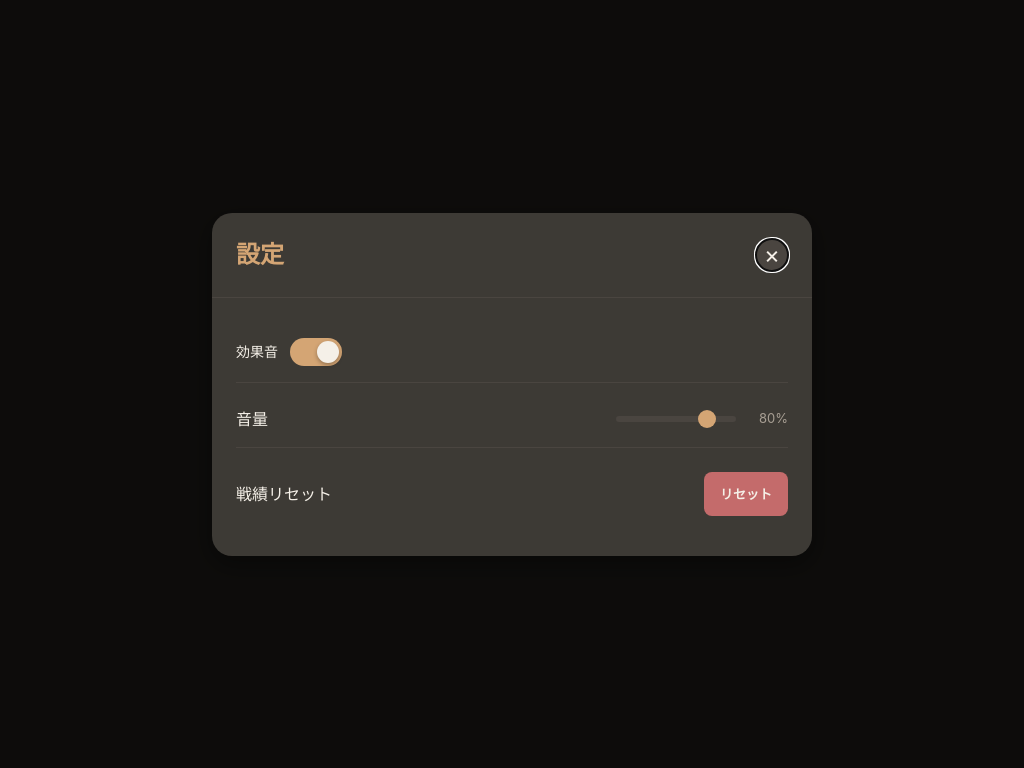
SettingsModal › Stats Reset › shows confirmation dialog when reset button is clicked
The width and height of the screenshot is (1024, 768).
Click the button "リセット" at [746, 494], box [704,472,788,516]
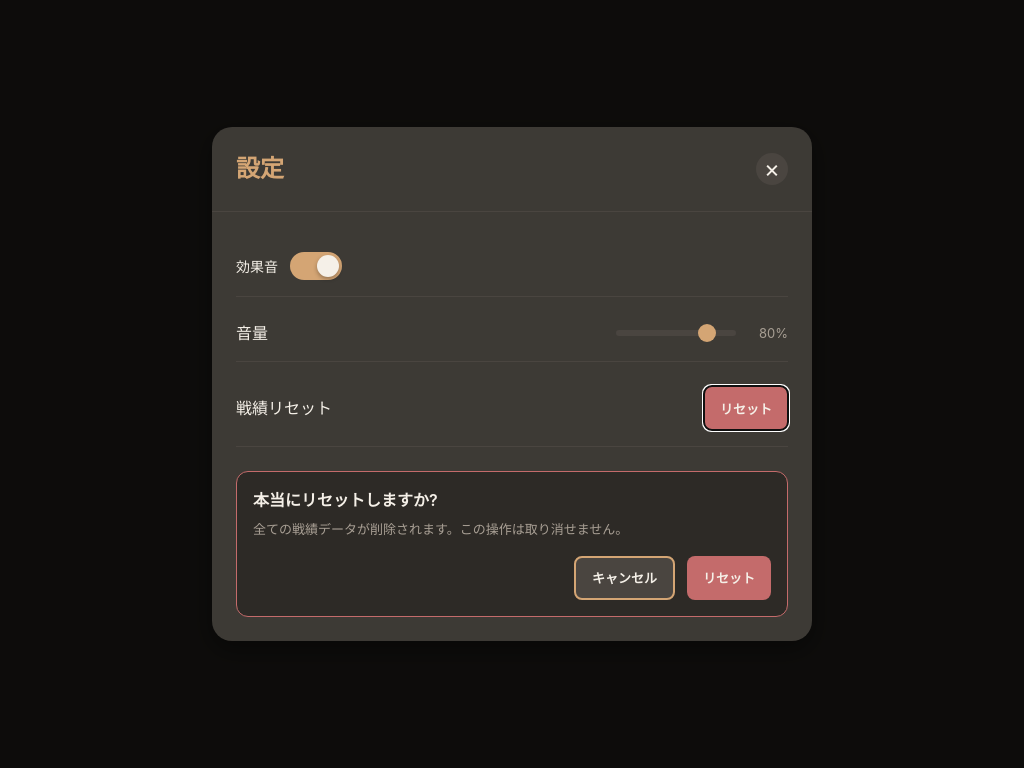
Now the text "本当にリセットしますか?" is shown, box [253,490,438,510]
Now the text "全ての戦績データが削除されます。この操作は取り消せません。" is shown, box [253,521,628,537]
